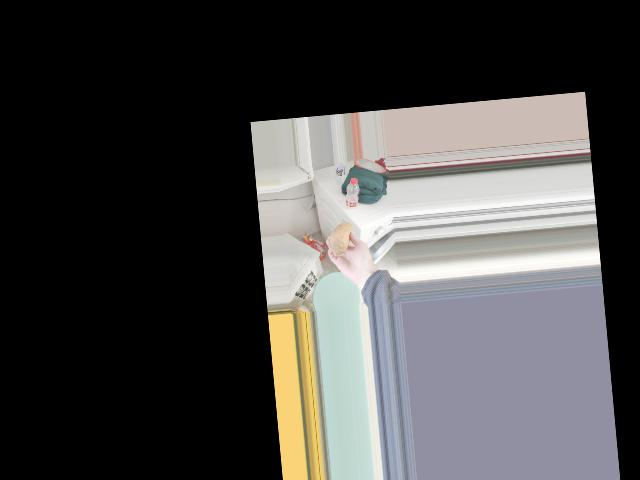sweet_potato: (328, 221, 353, 252)
